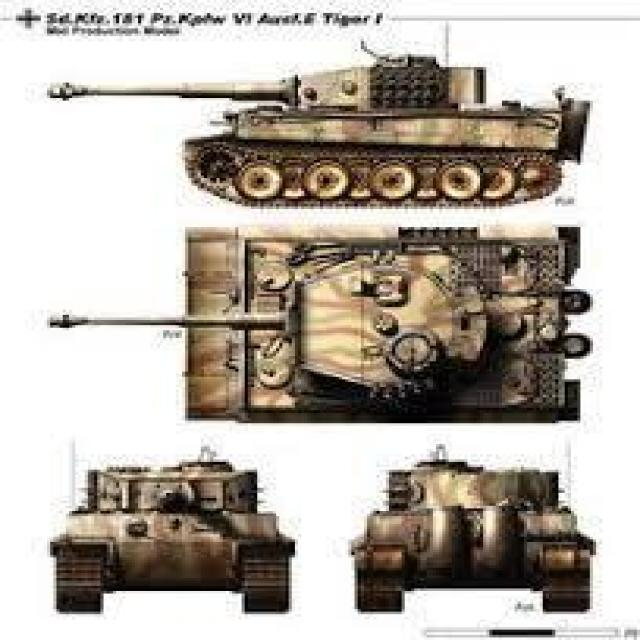Tanks: (172, 219, 584, 426), (181, 53, 563, 210), (53, 437, 292, 639), (361, 456, 590, 618)
